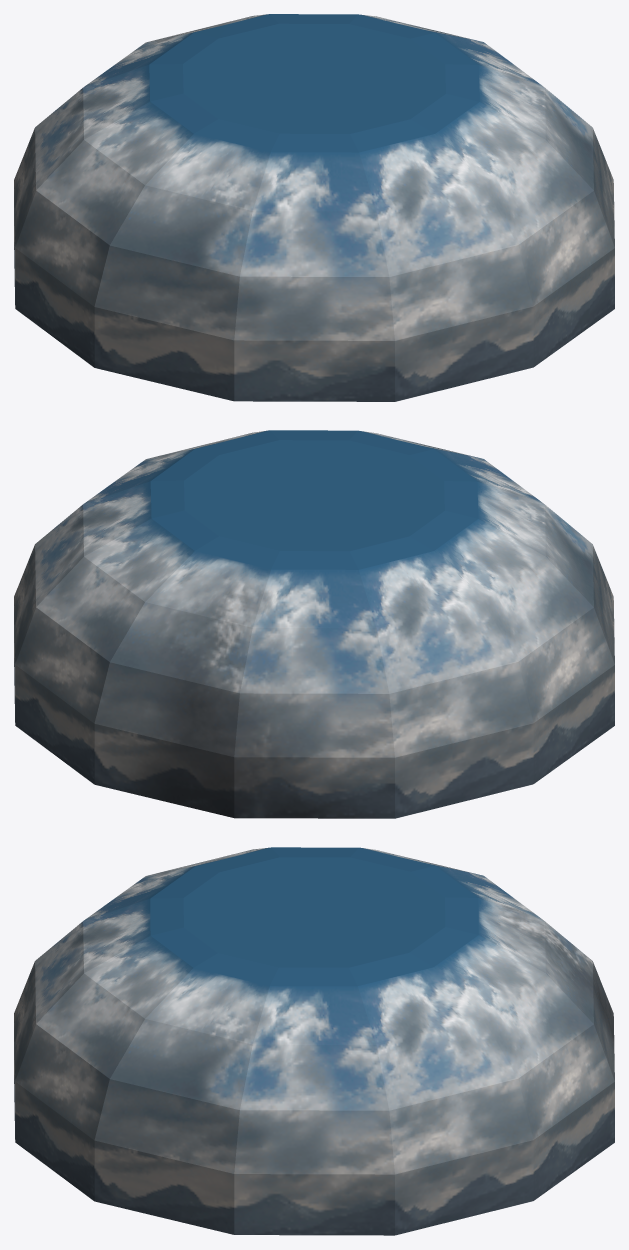
The picture shows the model from 3 angles, top to bottom: view 1: azimuth 30°, elevation 25°; view 2: azimuth 150°, elevation 25°; view 3: azimuth 270°, elevation 25°; orthographic projection.
Visible parts, largest first — view 1: mesh00; view 2: mesh00; view 3: mesh00.
Part boxes in pixels (x1,y1,x2,y2): mesh00: (14, 14, 614, 401); mesh00: (14, 430, 614, 818); mesh00: (14, 847, 614, 1235).
Size of the model in its own units: 77146 by 27764 by 77146.
